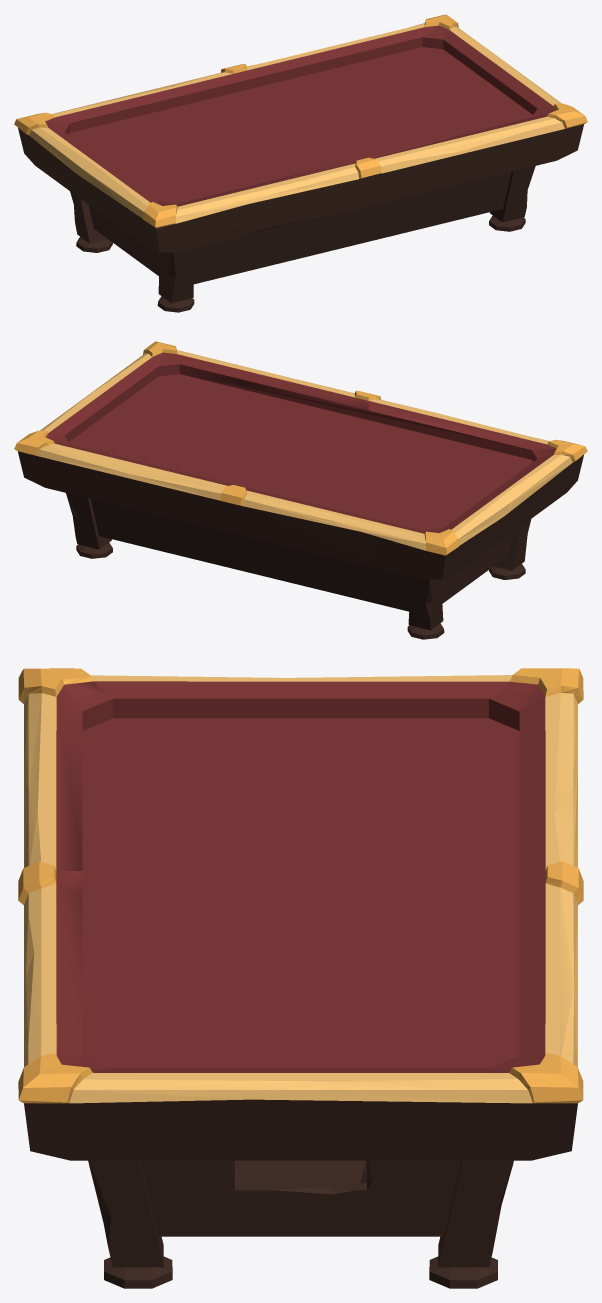
File: pooltable.fbx
3 views of the same model, one above another, from view 1: azimuth 30°, elevation 25°; view 2: azimuth 150°, elevation 25°; view 3: azimuth 270°, elevation 25° (orthographic). The views are drawn at different scales.
Visible parts, largest first — view 1: Fbx_SM_Prop_PoolTable_01; view 2: Fbx_SM_Prop_PoolTable_01; view 3: Fbx_SM_Prop_PoolTable_01.
Boxes of the visible parts, left/top/right/bottom form: Fbx_SM_Prop_PoolTable_01: left=14, top=14, right=587, bottom=312; Fbx_SM_Prop_PoolTable_01: left=14, top=341, right=587, bottom=639; Fbx_SM_Prop_PoolTable_01: left=18, top=668, right=583, bottom=1288.
Bounding box in the file's own units: 6660 × 1777 × 3765.
1 material, 1 textured.
